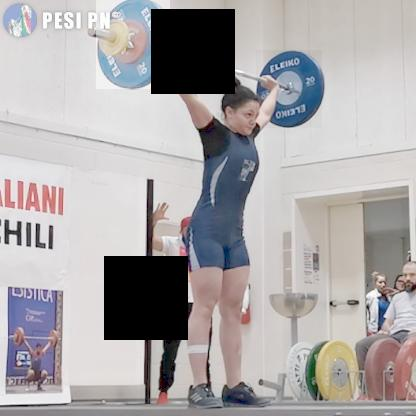barbell: (97, 1, 171, 90), (257, 51, 323, 129)
